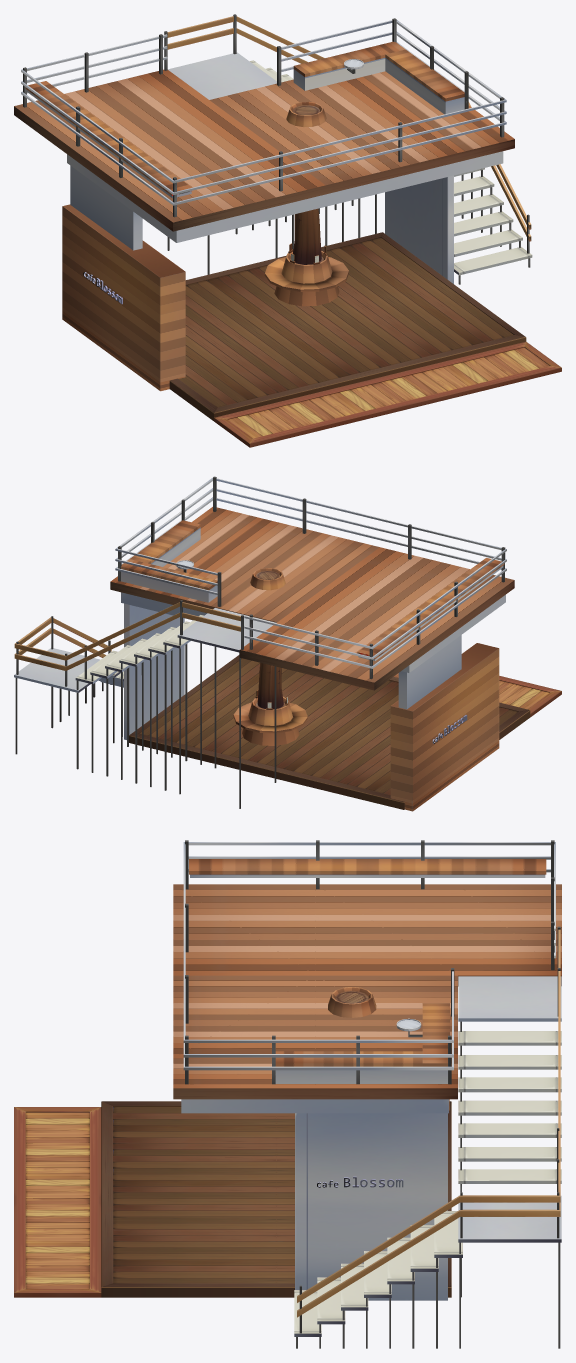
File: CBS_cafe_house.FBX
3 views of the same model, one above another, from view 1: azimuth 30°, elevation 25°; view 2: azimuth 150°, elevation 25°; view 3: azimuth 270°, elevation 25° (orthographic). The views are drawn at different scales.
Parts seen in each view (by area): view 1: CBS_cafe_1F, CBS_cafe_2F, CBS_cafe_1F_Wall, CBS_cafe_Stair, CBS_cafe_2F_SideWall, CBS_cafe_2F_SideTable, CBS_cafe_1F_Roof, CBS_cafe_1F_Tree, CBS_cafe_2F_Tree; view 2: CBS_cafe_2F, CBS_cafe_1F, CBS_cafe_1F_Wall, CBS_cafe_Stair, CBS_cafe_2F_SideWall, CBS_cafe_2F_SideTable, CBS_cafe_1F_Tree, CBS_cafe_1F_Roof, CBS_cafe_2F_Tree; view 3: CBS_cafe_2F, CBS_cafe_1F, CBS_cafe_Stair, CBS_cafe_1F_Wall, CBS_cafe_2F_SideTable, CBS_cafe_2F_SideWall, CBS_cafe_1F_Roof, CBS_cafe_2F_Tree.
Part boxes in pixels (x1,y1,x2,y2): CBS_cafe_1F: [169, 232, 561, 447]; CBS_cafe_2F: [14, 69, 514, 231]; CBS_cafe_1F_Wall: [62, 165, 453, 391]; CBS_cafe_Stair: [164, 14, 532, 284]; CBS_cafe_2F_SideWall: [21, 18, 506, 217]; CBS_cafe_2F_SideTable: [25, 41, 464, 198]; CBS_cafe_1F_Roof: [67, 151, 503, 242]; CBS_cafe_1F_Tree: [264, 208, 348, 306]; CBS_cafe_2F_Tree: [286, 101, 326, 127]; CBS_cafe_2F: [110, 507, 514, 690]; CBS_cafe_1F: [129, 655, 561, 809]; CBS_cafe_1F_Wall: [124, 603, 499, 811]; CBS_cafe_Stair: [14, 600, 276, 808]; CBS_cafe_2F_SideWall: [115, 476, 506, 679]; CBS_cafe_2F_SideTable: [121, 520, 504, 661]; CBS_cafe_1F_Tree: [233, 663, 307, 745]; CBS_cafe_1F_Roof: [121, 592, 505, 672]; CBS_cafe_2F_Tree: [250, 568, 285, 590]; CBS_cafe_2F: [173, 884, 561, 1099]; CBS_cafe_1F: [14, 1101, 451, 1297]; CBS_cafe_Stair: [294, 926, 561, 1348]; CBS_cafe_1F_Wall: [295, 1099, 449, 1300]; CBS_cafe_2F_SideTable: [189, 859, 546, 1083]; CBS_cafe_2F_SideWall: [183, 840, 555, 1084]; CBS_cafe_1F_Roof: [181, 1099, 448, 1113]; CBS_cafe_2F_Tree: [328, 987, 376, 1017].
Bounding box in the file's own units: 911 × 469 × 866.
